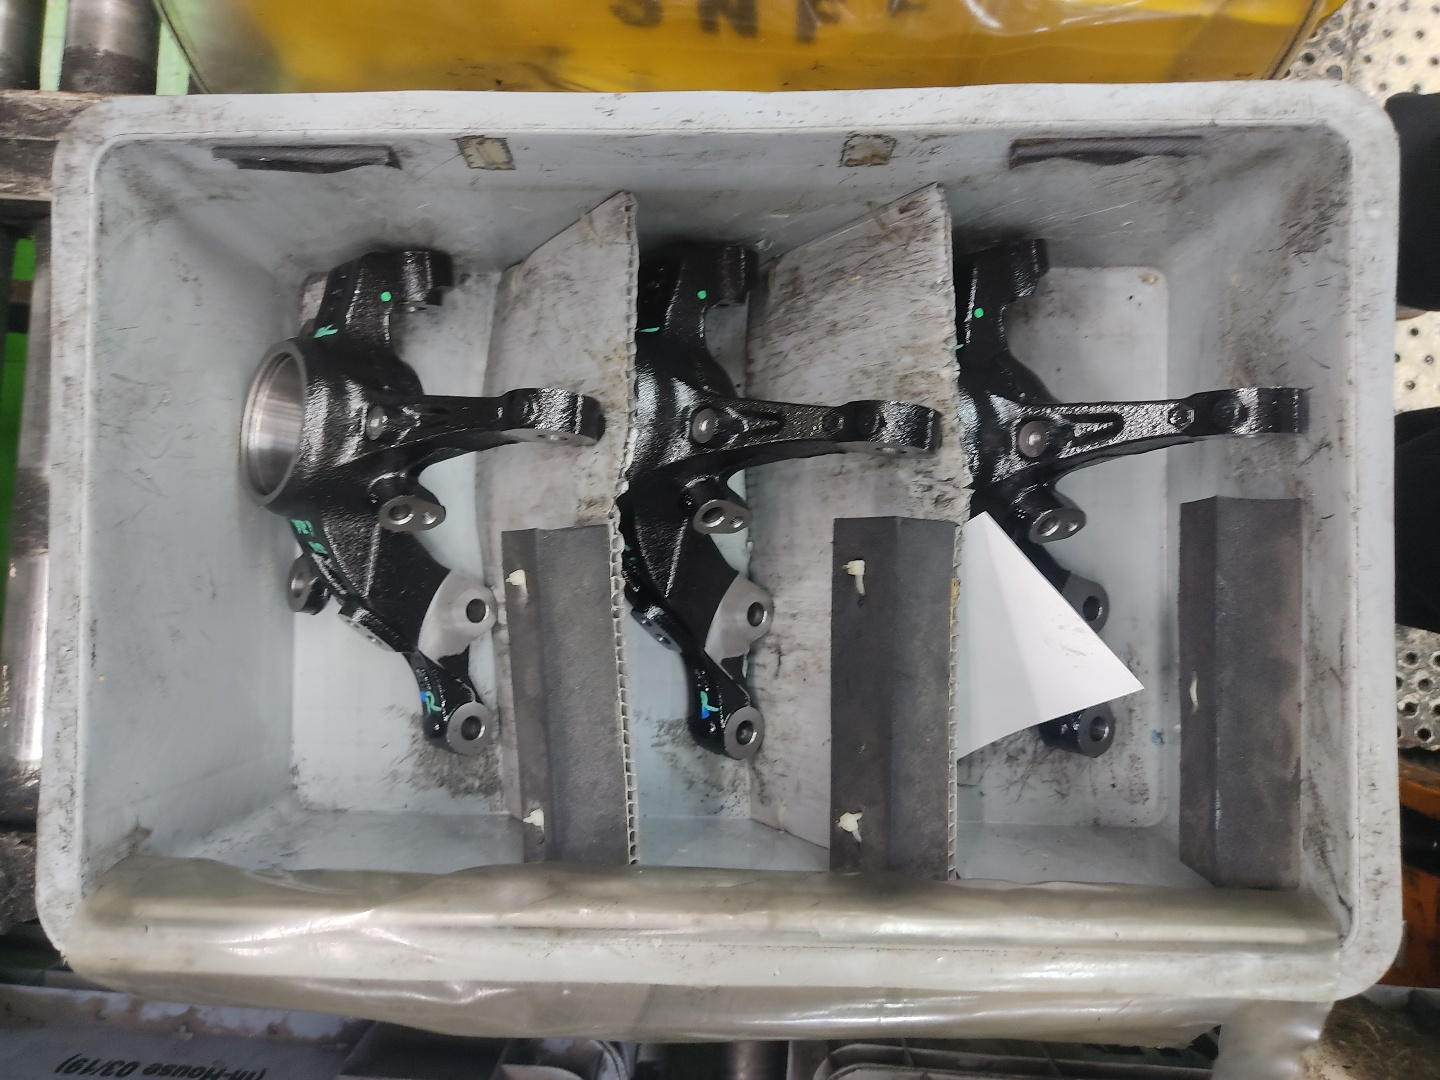abs-rh: (943, 221, 1312, 774), (232, 233, 610, 766), (622, 227, 945, 773)
